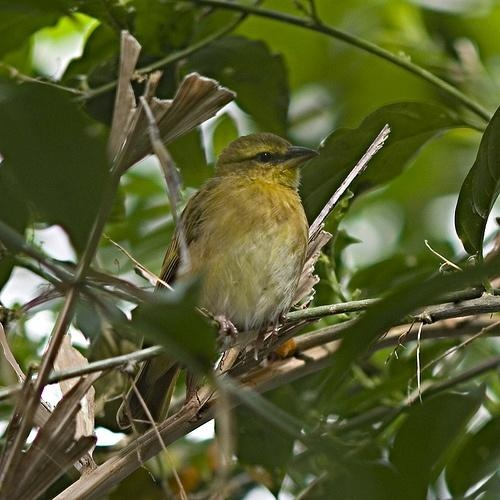bird: (115, 131, 324, 433)
